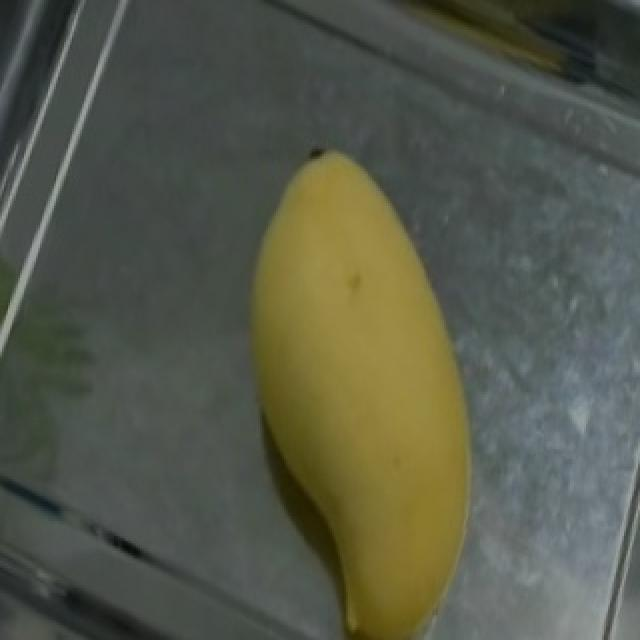fruit: (174, 109, 518, 496)
